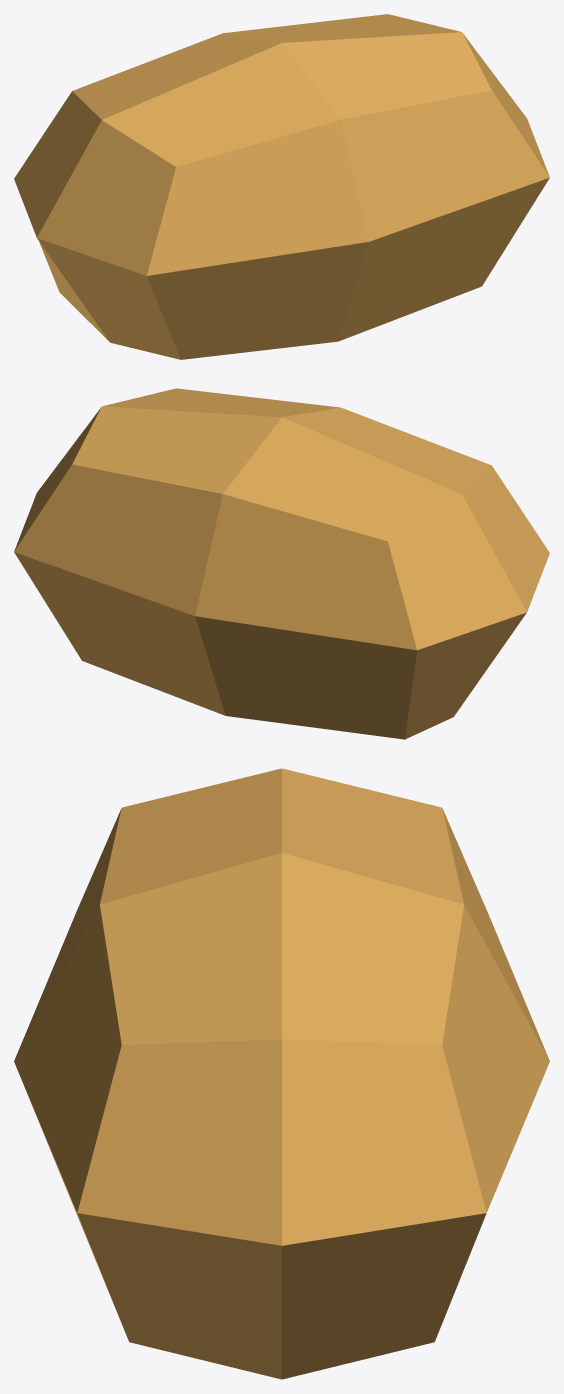
Rendered from potato.fbx.
3 views of the same model, one above another, from view 1: azimuth 30°, elevation 25°; view 2: azimuth 150°, elevation 25°; view 3: azimuth 270°, elevation 25° (orthographic). The views are drawn at different scales.
Visible parts, largest first — view 1: potato; view 2: potato; view 3: potato.
Part boxes in pixels (x1=…): potato: x1=14, y1=14, x2=549, y2=359; potato: x1=14, y1=388, x2=549, y2=739; potato: x1=14, y1=768, x2=549, y2=1379.
Bounding box in the file's own units: 14.72 × 7.76 × 9.04.
Materials: 1 (1 with a texture image).
